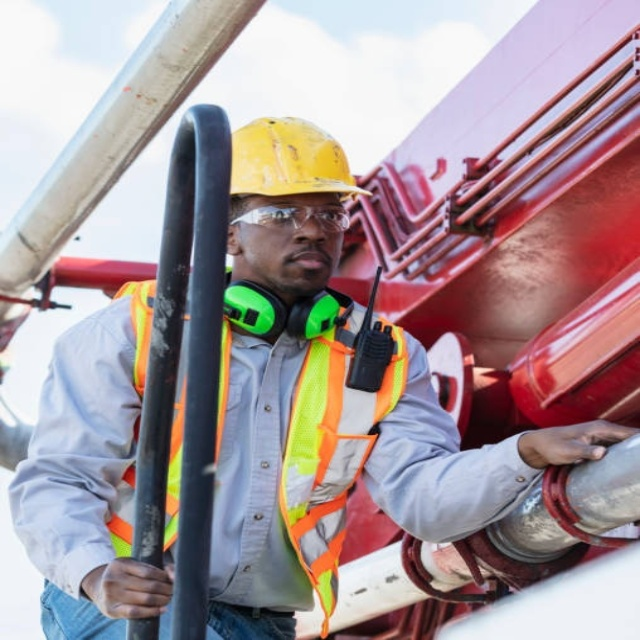Gafas: (231, 205, 353, 234)
Sin_guantes: (77, 555, 180, 618), (517, 417, 635, 467)
Sin_mascara: (276, 246, 335, 282)
